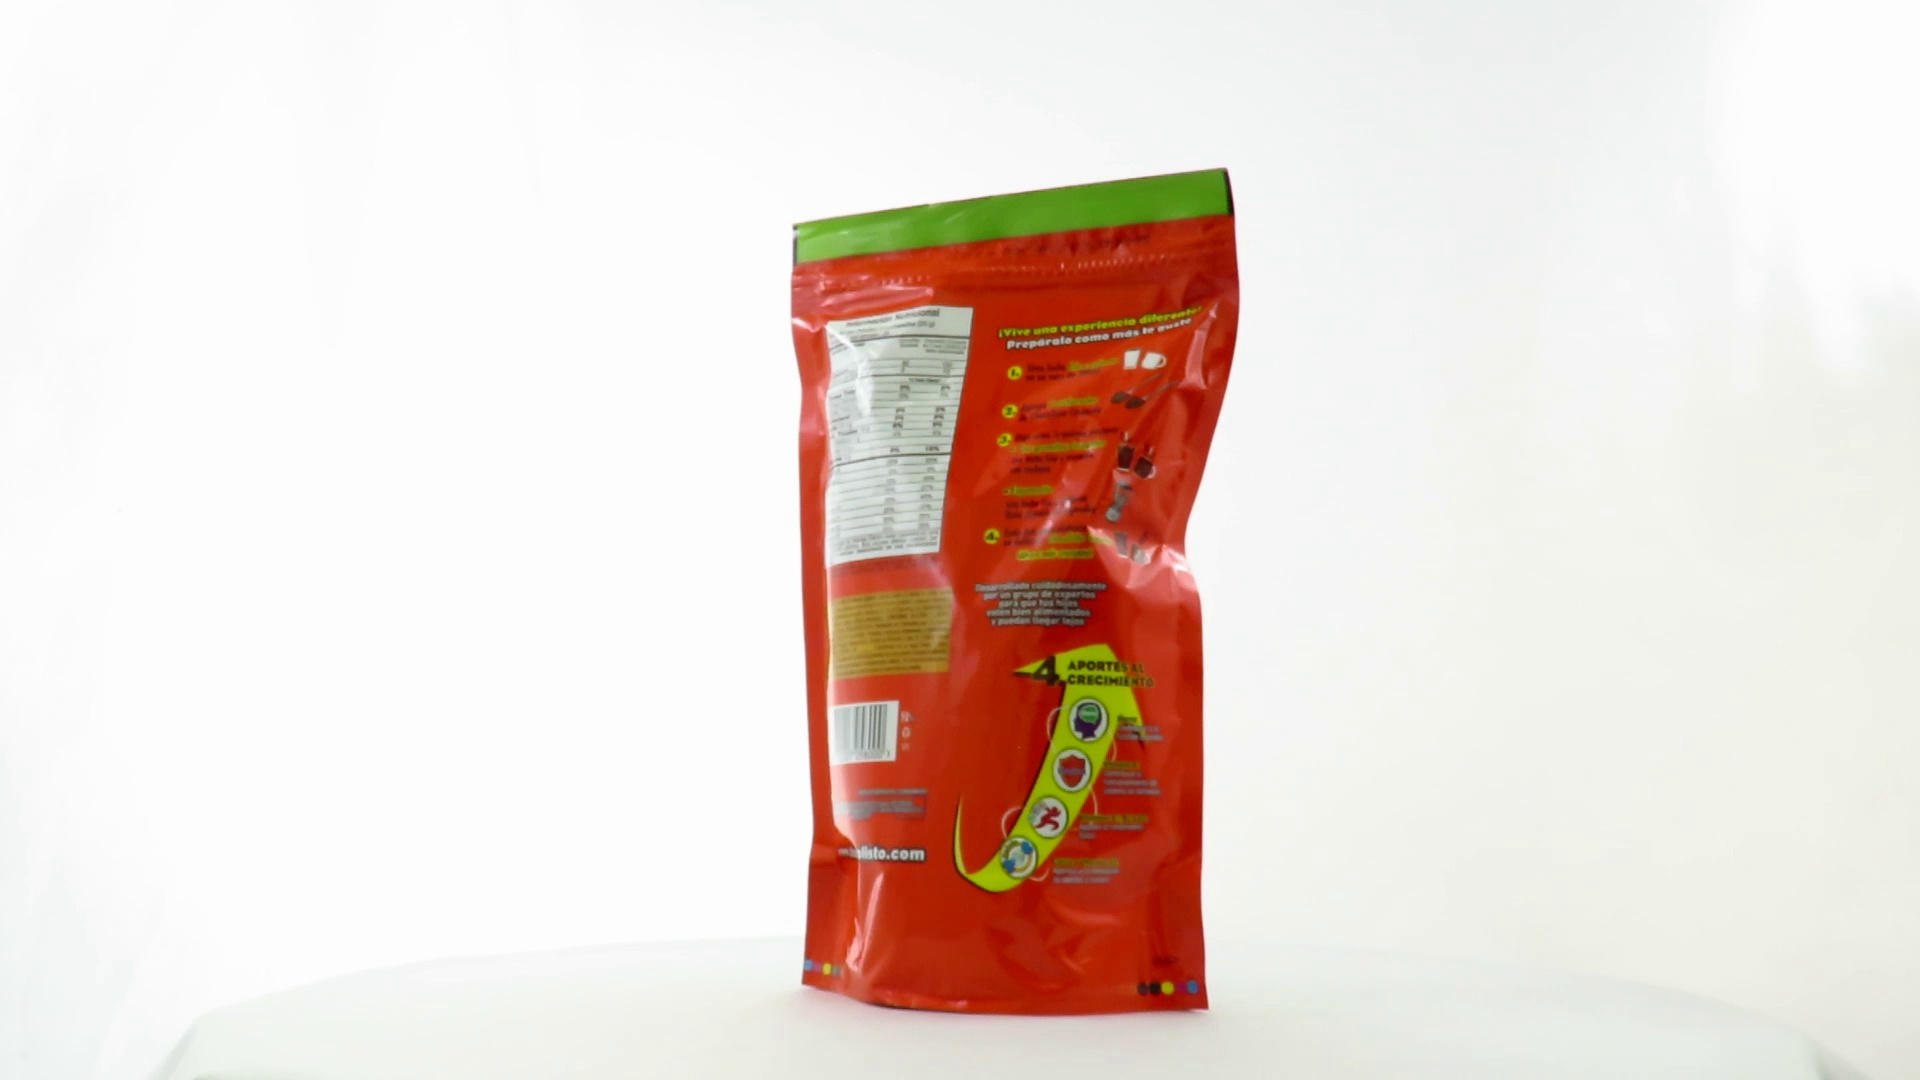COL0170102DYP50000: (785, 162, 1246, 1023)
